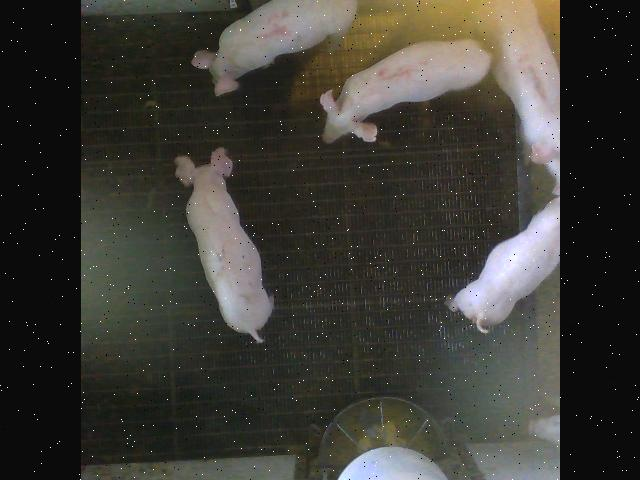pig-3: (471, 0, 558, 181)
pig-4: (191, 0, 355, 96)
pig-5: (319, 39, 489, 142)
